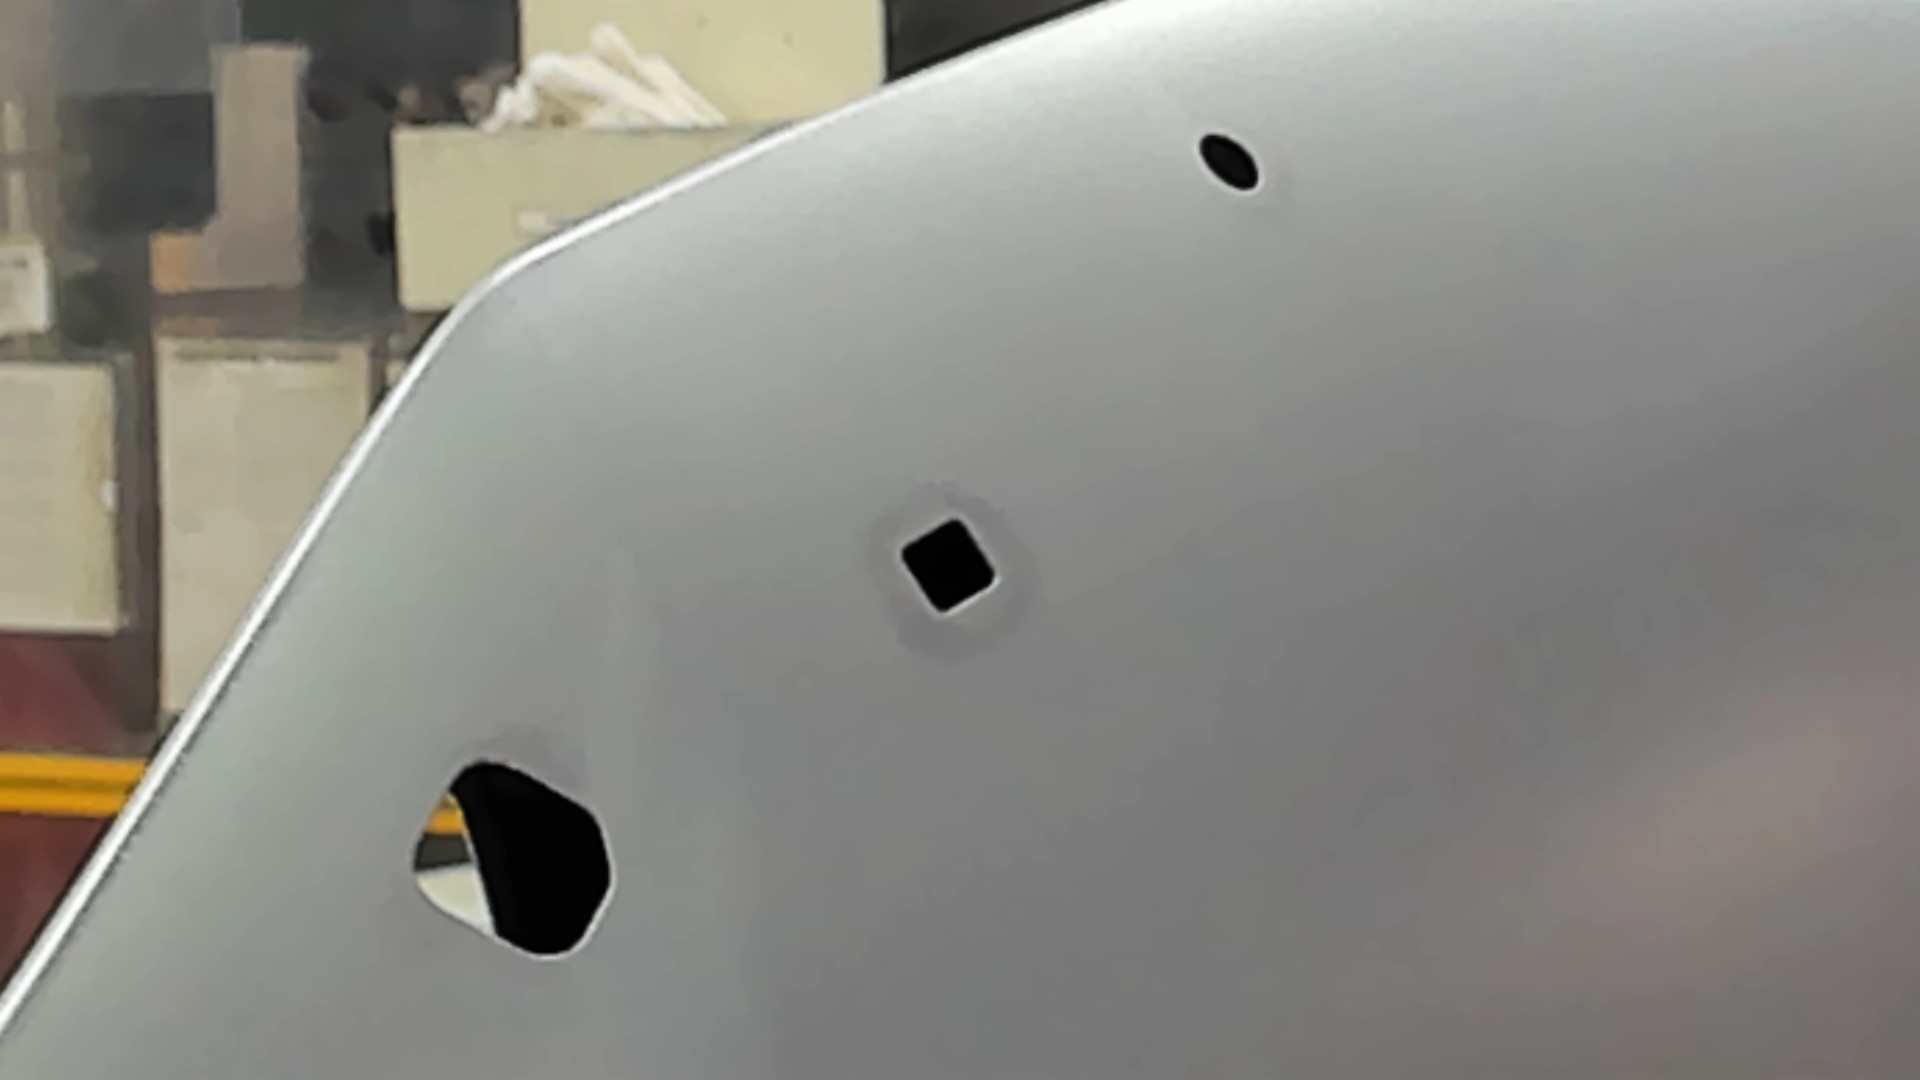chico: (1189, 127, 1265, 200)
grande: (406, 754, 618, 965)
mediano: (889, 510, 1006, 629)
